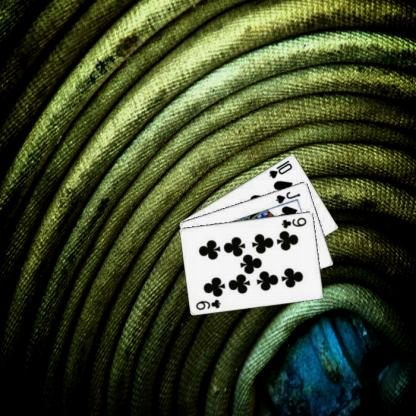10S: (266, 158, 294, 180)
9C: (279, 214, 308, 230), (193, 296, 222, 311)
JS: (274, 188, 302, 204)
